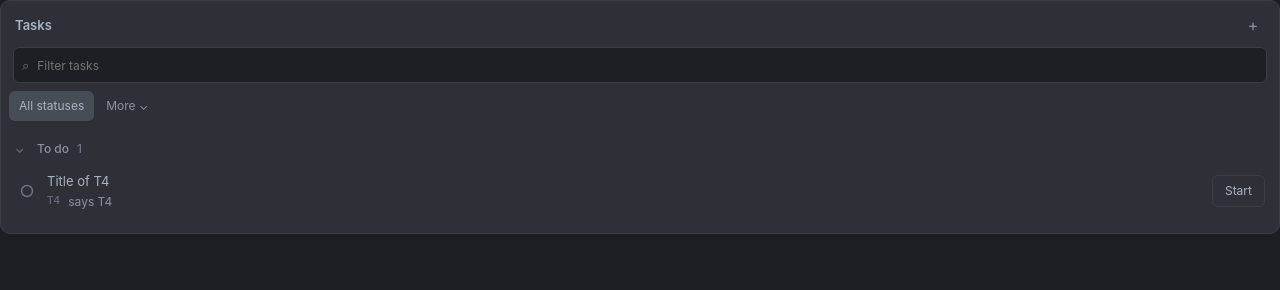
TasksScreen verbs › a refusal is drawn where the person pressed
Step 1. Click the button with aria-label "Start T4" → (1238, 191), box [1212,175,1265,207]
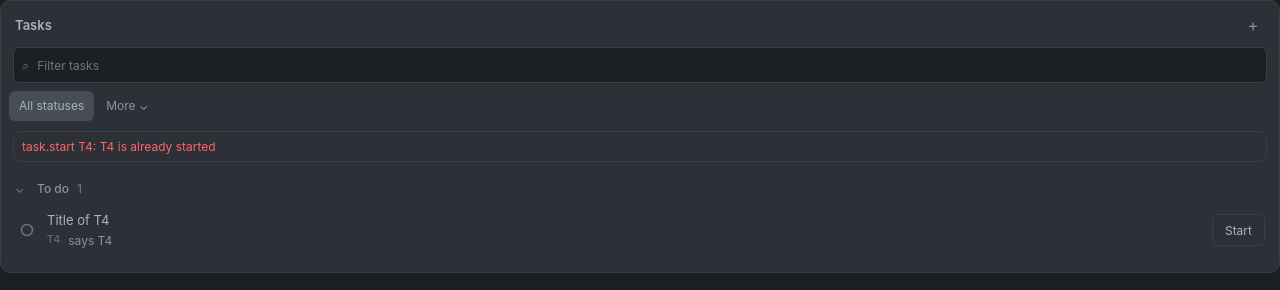
Result: the message shows "T4 is already started" at [22,139,216,154]
